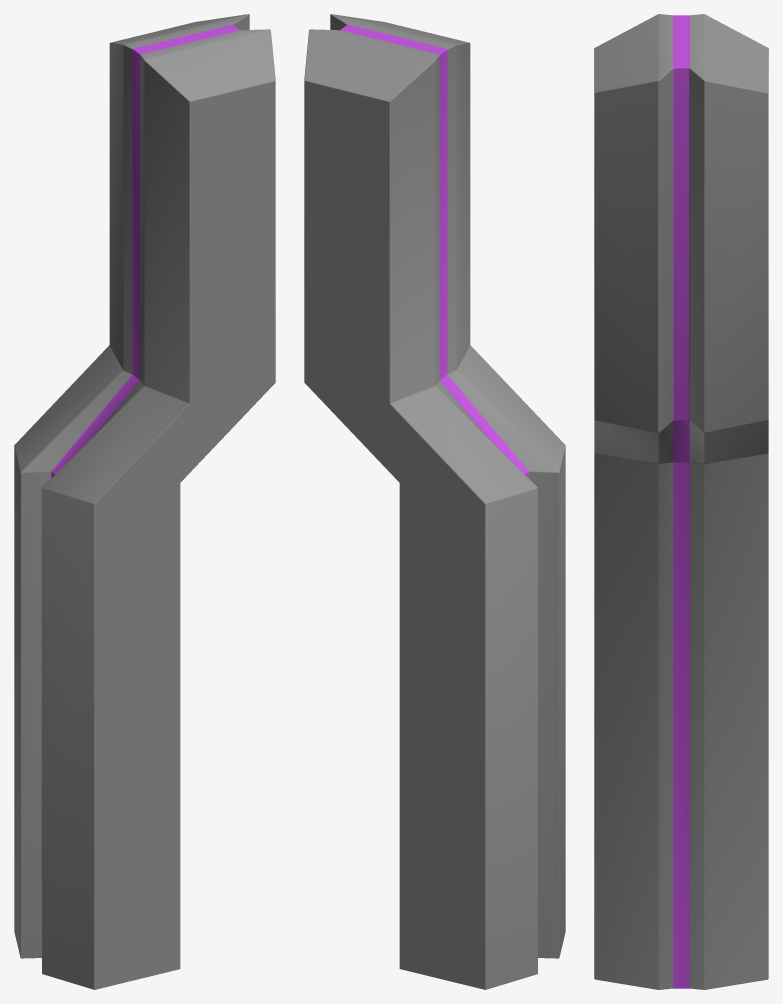
File: SM_Construction_01.fbx
3 views of the same model, side by side, from view 1: azimuth 30°, elevation 25°; view 2: azimuth 150°, elevation 25°; view 3: azimuth 270°, elevation 25° (orthographic). The views are drawn at different scales.
Parts seen in each view (by area): view 1: SM_Construction_01; view 2: SM_Construction_01; view 3: SM_Construction_01.
Part boxes in pixels (x1=…): SM_Construction_01: x1=14, y1=14, x2=275, y2=989; SM_Construction_01: x1=304, y1=14, x2=565, y2=989; SM_Construction_01: x1=594, y1=14, x2=768, y2=989.
Bounding box in the file's own units: 84.64 × 51.47 × 314.
Materials: 1 (1 with a texture image).
